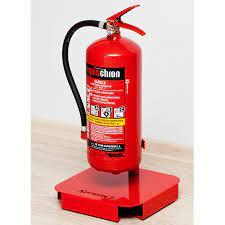floor-kept: (44, 1, 190, 222)
